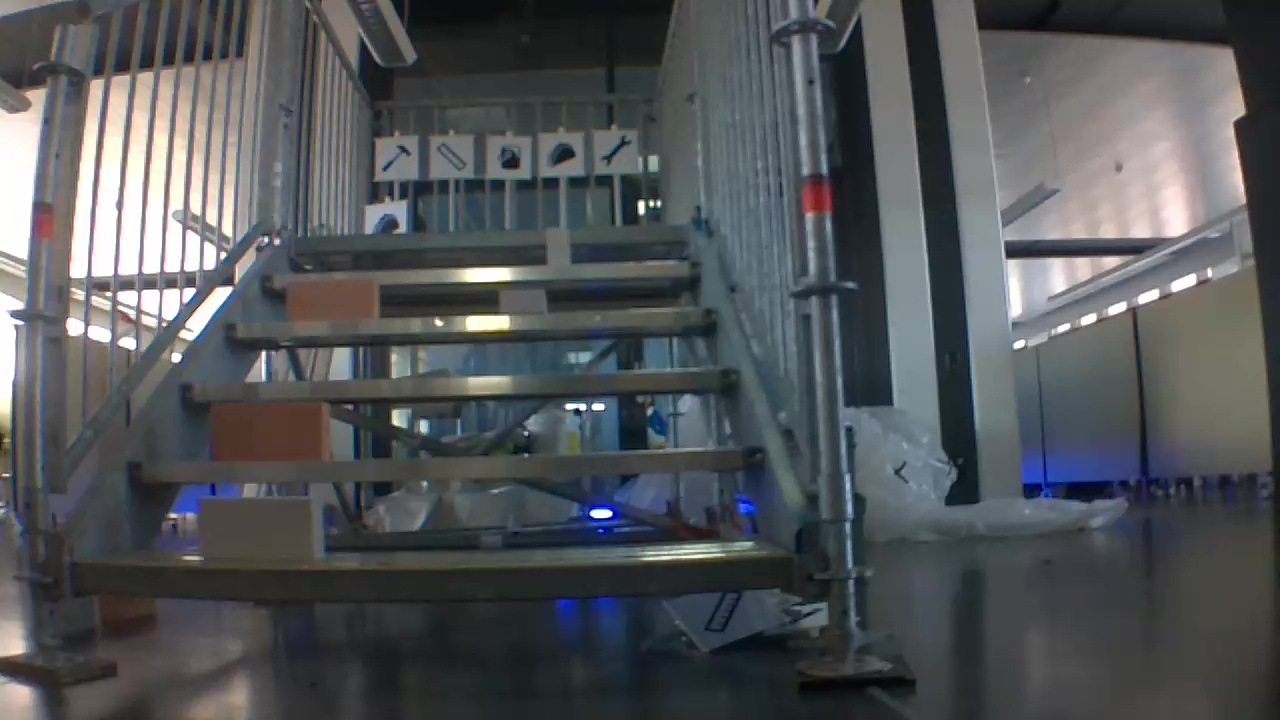brick: (201, 496, 325, 562), (212, 402, 329, 459), (288, 278, 378, 318), (501, 288, 544, 312), (546, 227, 568, 263)
bucket: (491, 140, 526, 174)
edge: (70, 554, 796, 600), (126, 447, 762, 482), (181, 369, 740, 398), (221, 309, 719, 336), (261, 260, 700, 282), (289, 226, 689, 247)
hammer: (377, 140, 412, 175)
ruler: (430, 138, 472, 174)
stairs: (3, 3, 915, 697)
steps: (64, 218, 802, 622)
taco: (544, 138, 576, 168), (365, 208, 398, 235)
wrench: (596, 130, 634, 170)
